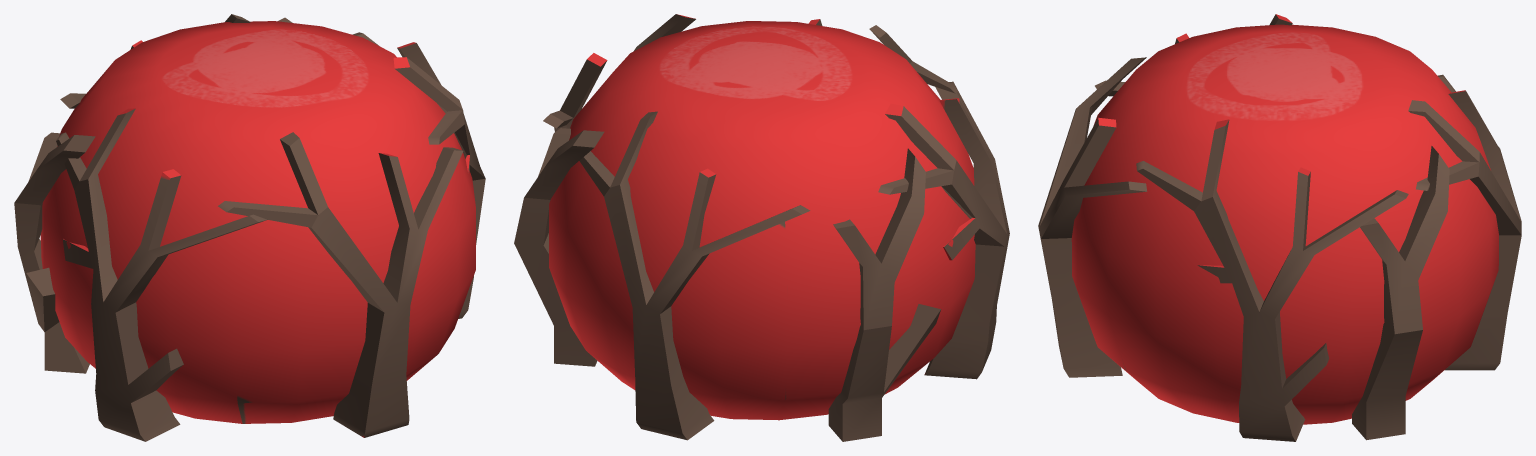
The model's file is growing.fbx.
3 renders of one model, left to right at view 1: azimuth 30°, elevation 25°; view 2: azimuth 150°, elevation 25°; view 3: azimuth 270°, elevation 25°, orthographic.
Visible parts, largest first — view 1: Growing1; view 2: Growing1; view 3: Growing1.
Part boxes in pixels (left/top/right/bottom): Growing1: left=14, top=14, right=485, bottom=441; Growing1: left=514, top=14, right=1009, bottom=441; Growing1: left=1038, top=14, right=1521, bottom=441.
Bounding box in the file's own units: 2.17 × 1.53 × 2.2.
